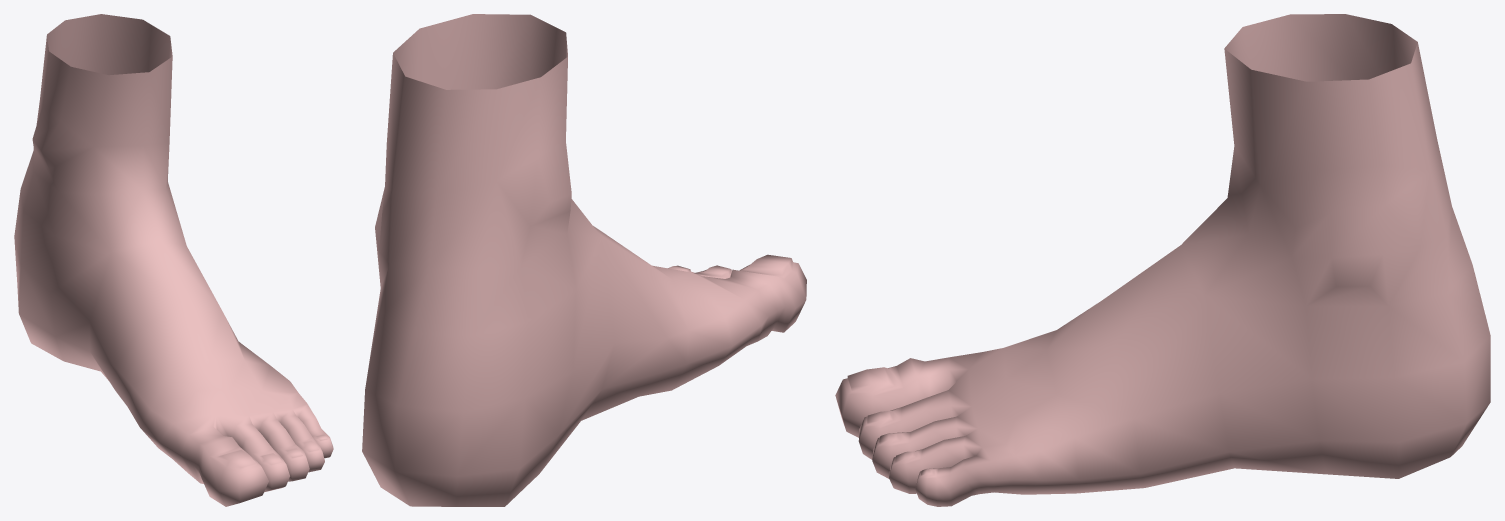
Rendered from Anime_Male_A_Foot01.fbx.
3 renders of one model, left to right at view 1: azimuth 30°, elevation 25°; view 2: azimuth 150°, elevation 25°; view 3: azimuth 270°, elevation 25°, orthographic. The views are drawn at different scales.
Visible parts, largest first — view 1: Anime_Male_A_Foot01; view 2: Anime_Male_A_Foot01; view 3: Anime_Male_A_Foot01.
Boxes of the visible parts, x1=… form: Anime_Male_A_Foot01: x1=14, y1=14, x2=333, y2=506; Anime_Male_A_Foot01: x1=362, y1=14, x2=806, y2=506; Anime_Male_A_Foot01: x1=835, y1=14, x2=1490, y2=506.
Bounding box in the file's own units: 0.5676 × 1.1 × 1.56.
